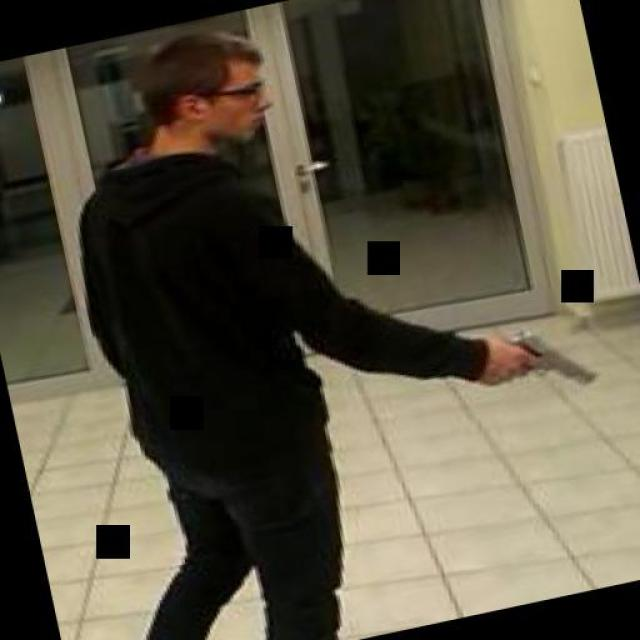gun: (475, 308, 596, 408)
